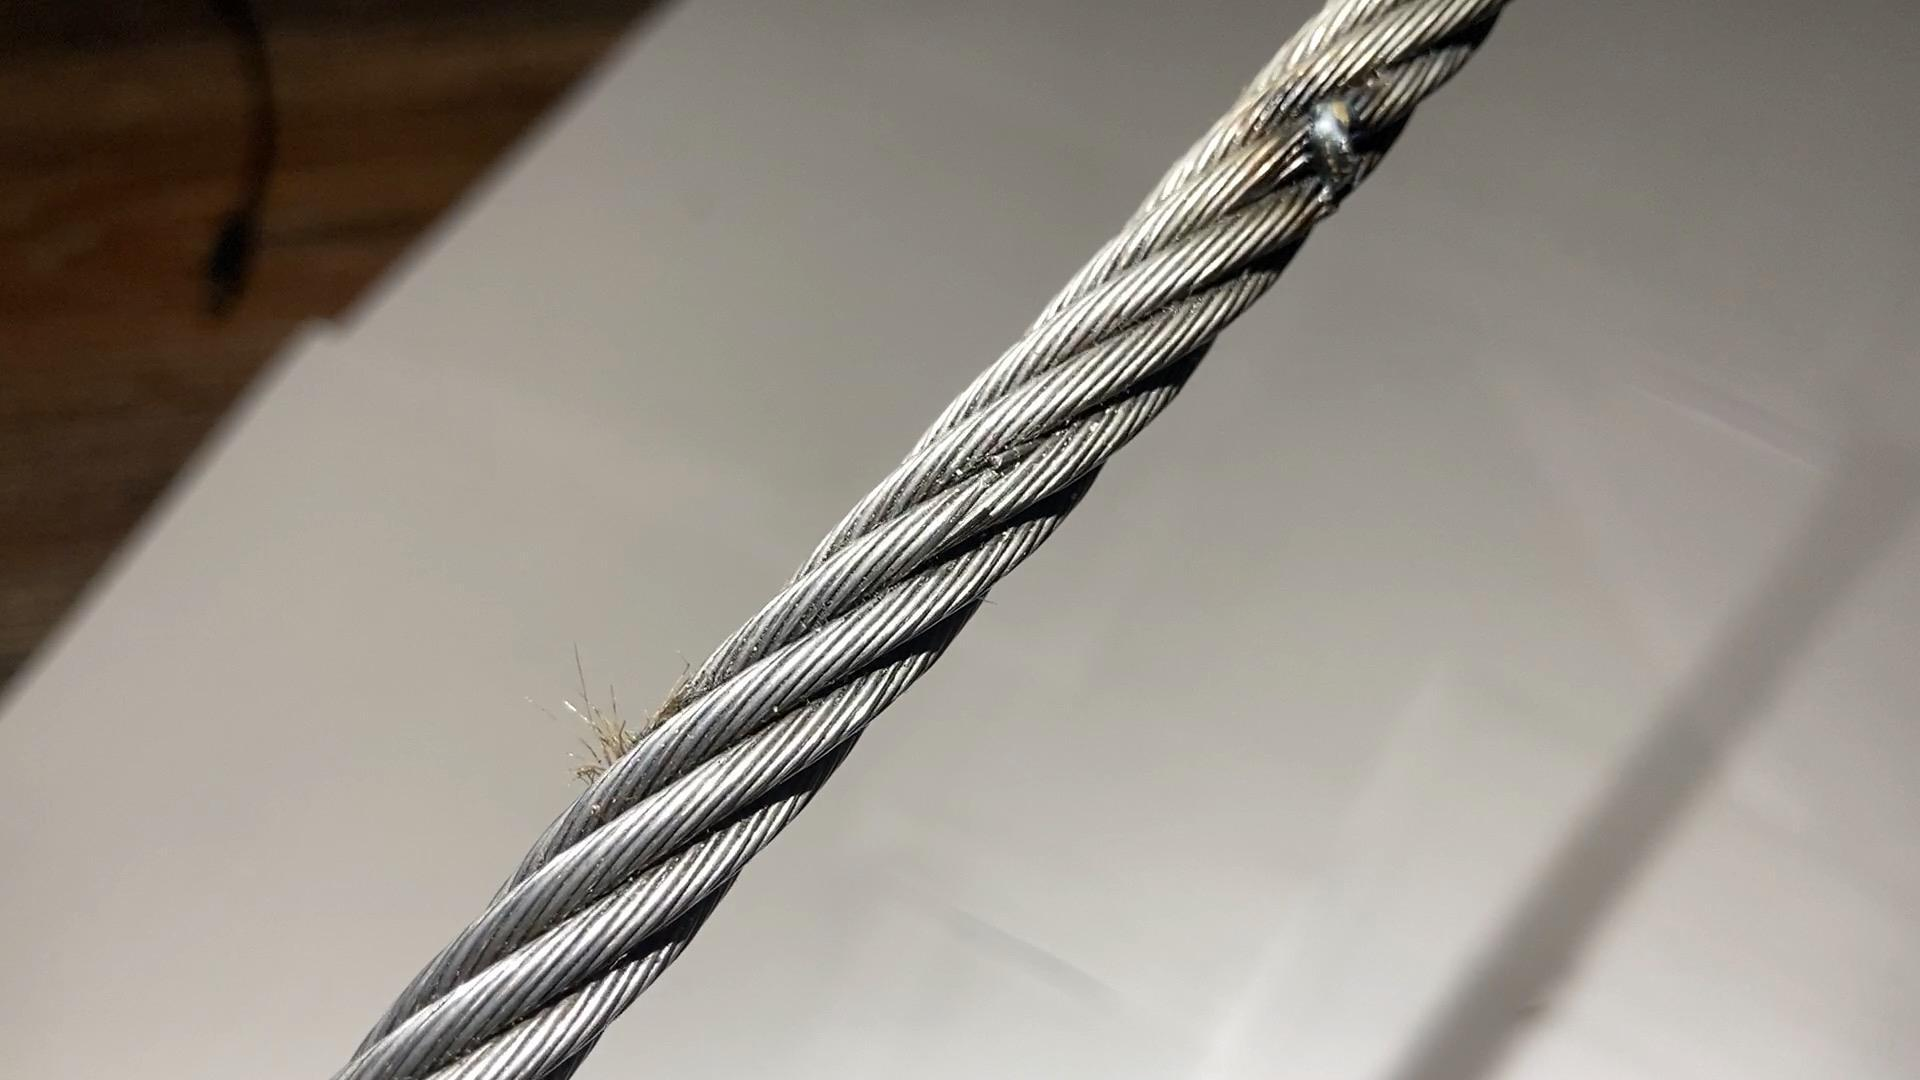thunderbolt: (1255, 70, 1398, 194)
